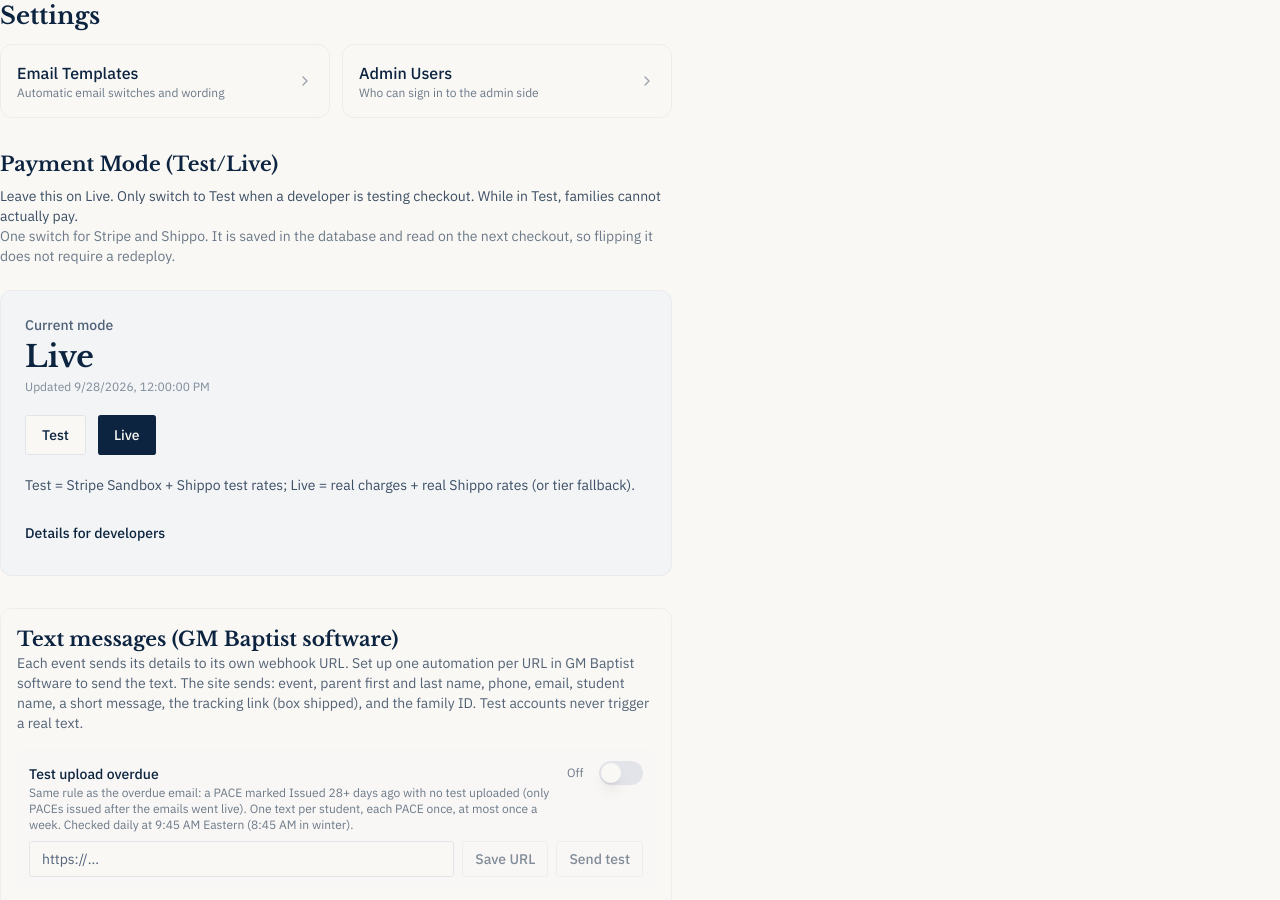
Test: Admin payment mode toggle › shows Live and writes Test after confirmation
Expected: the text with test id "payment-mode-current" reads "Live", [25,338,94,375]
Expected: the text "Test = Stripe Sandbox + Shippo test rates" is shown, [25,476,635,494]
Click the button "Test": (55, 435) [25,415,86,455]
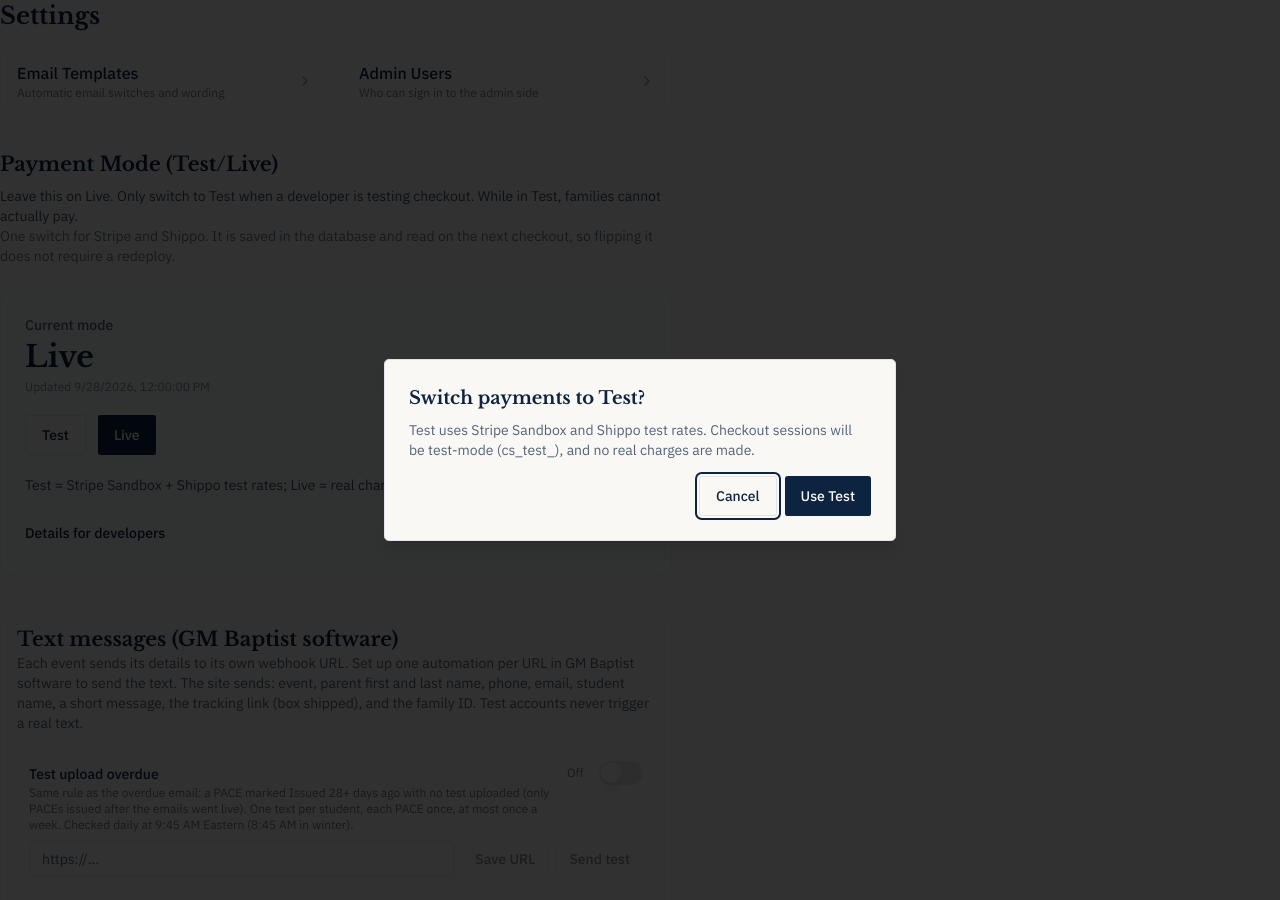
Result: the heading "Switch payments to Test?" is shown at [409,387,645,409]
Click the button "Use Test": (828, 496) [784,476,871,516]
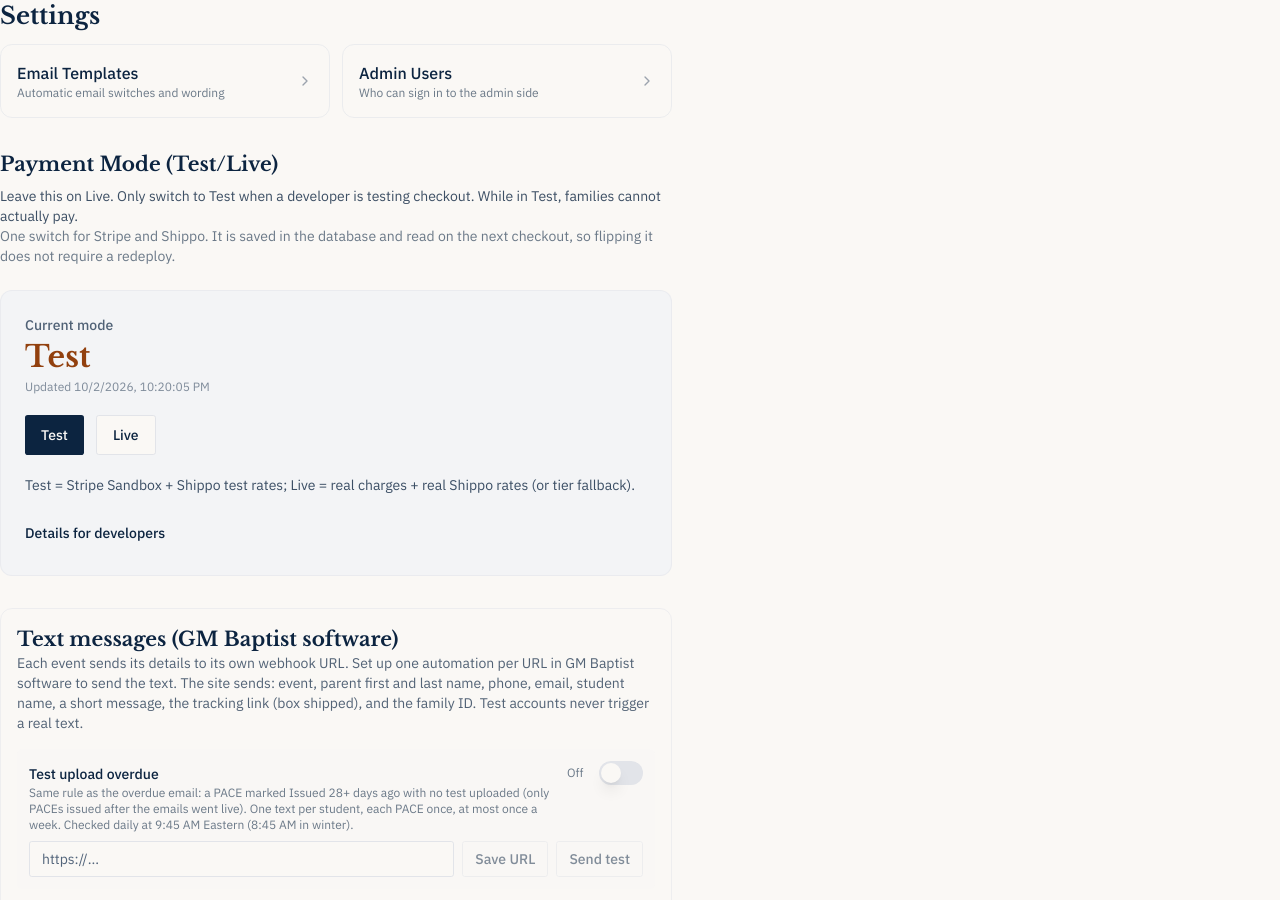
Result: the text with test id "payment-mode-current" reads "Test" at [25,338,90,375]
